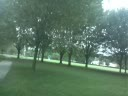window: (106, 35, 120, 57), (84, 47, 94, 68), (116, 79, 127, 96), (89, 87, 98, 96)
